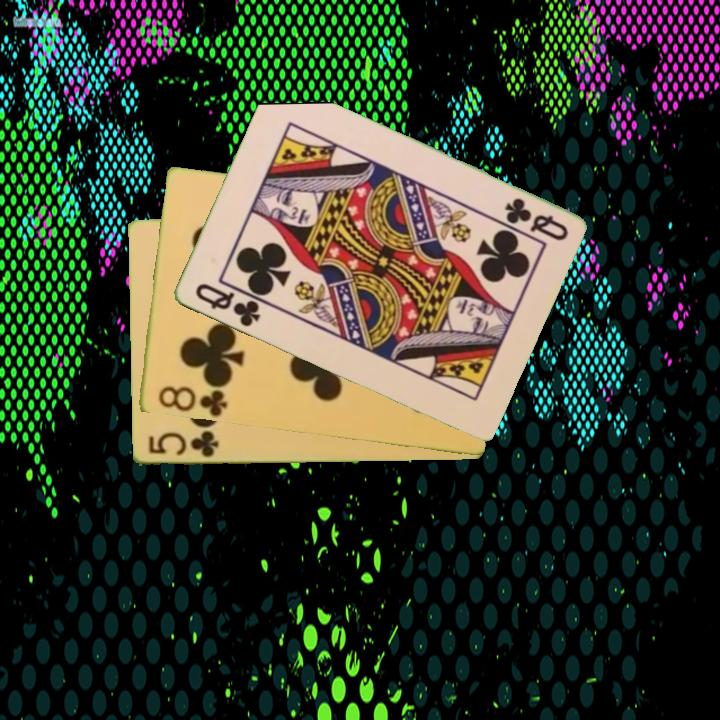5c: (144, 427, 221, 460)
8c: (154, 382, 230, 419)
Qc: (191, 280, 263, 330), (500, 194, 571, 244)
